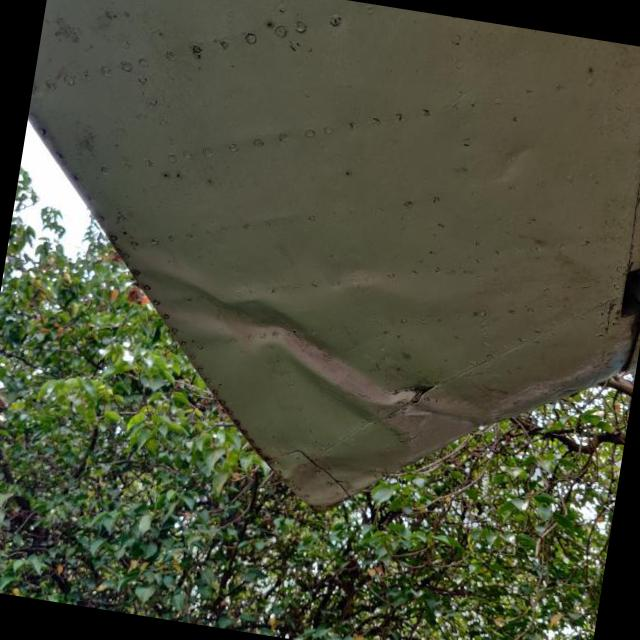Crack: (408, 385, 435, 404)
Dent: (120, 249, 417, 441), (419, 344, 609, 427), (269, 449, 397, 508)
